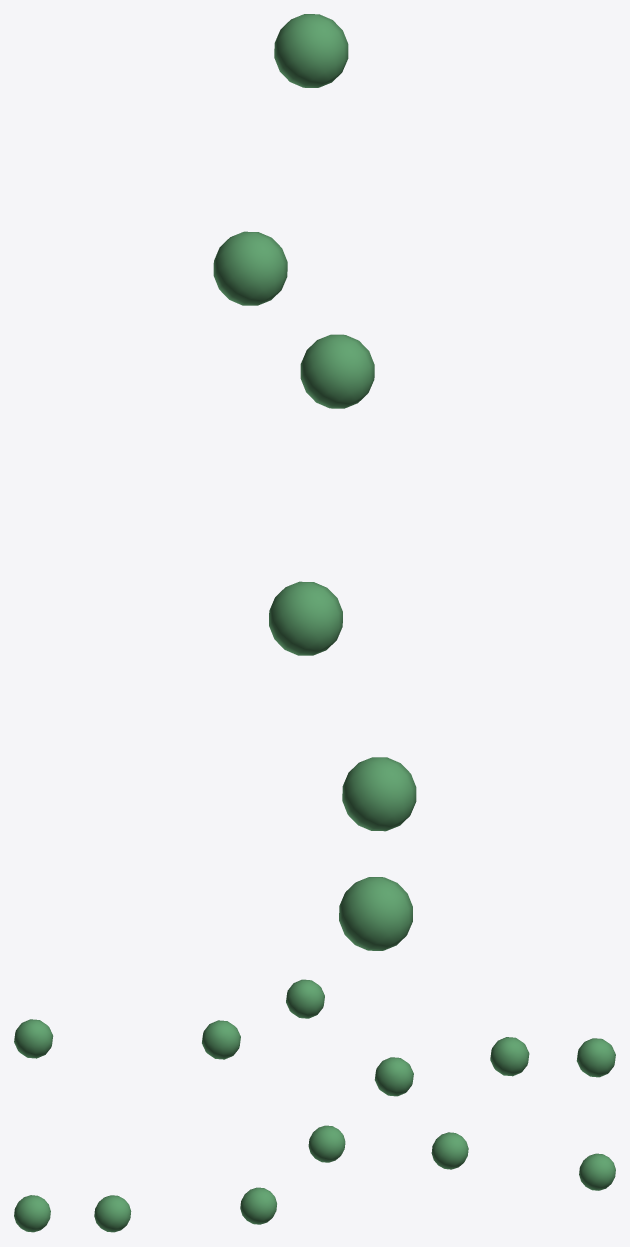
3 renders of one model, top to bottom at view 1: azimuth 30°, elevation 25°; view 2: azimuth 150°, elevation 25°; view 3: azimuth 270°, elevation 25°, orthographic. The views are drawn at different scales.
Visible parts, largest first — view 1: 左侧腋后淋巴结; view 2: 左侧腋后淋巴结; view 3: 左侧腋后淋巴结.
Boxes of the visible parts, x1,y1,x2,y2 form: 左侧腋后淋巴结: [213, 14, 416, 950]; 左侧腋后淋巴结: [14, 979, 615, 1096]; 左侧腋后淋巴结: [14, 1125, 615, 1232].
Bounding box in the file's own units: 0.0332 × 0.0221 × 0.0612.
